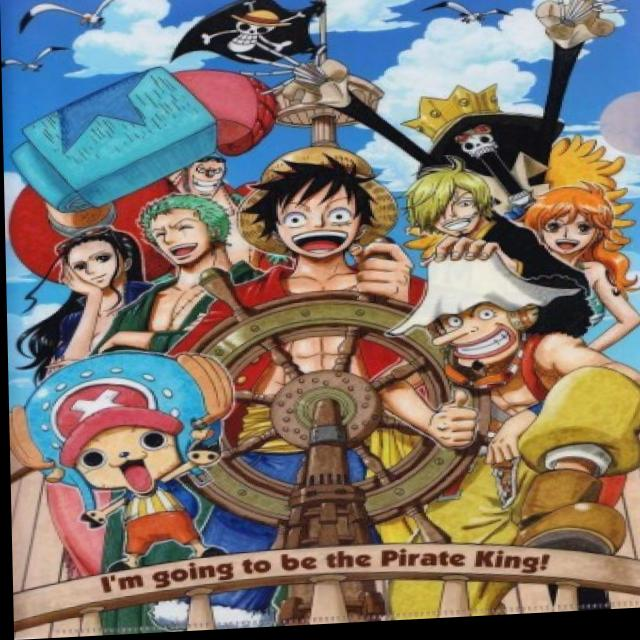Blook: (414, 59, 570, 172)
Chyopa: (6, 334, 255, 579)
Franky: (159, 133, 258, 207)
Luffy: (233, 141, 391, 273)
Nami: (510, 188, 630, 264)
NicoRobin: (32, 224, 153, 314)
Sangdi: (393, 166, 508, 260)
Usopp: (384, 256, 562, 379)
Zoro: (133, 187, 254, 282)
